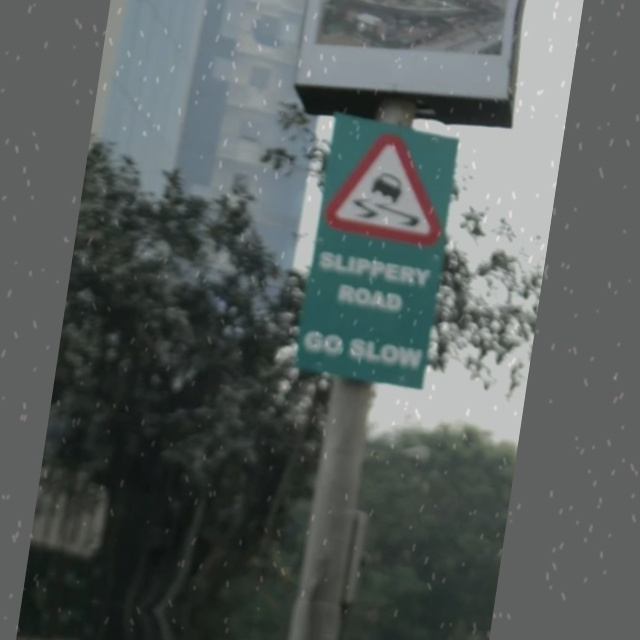Slippery_Road: (321, 127, 453, 248)
